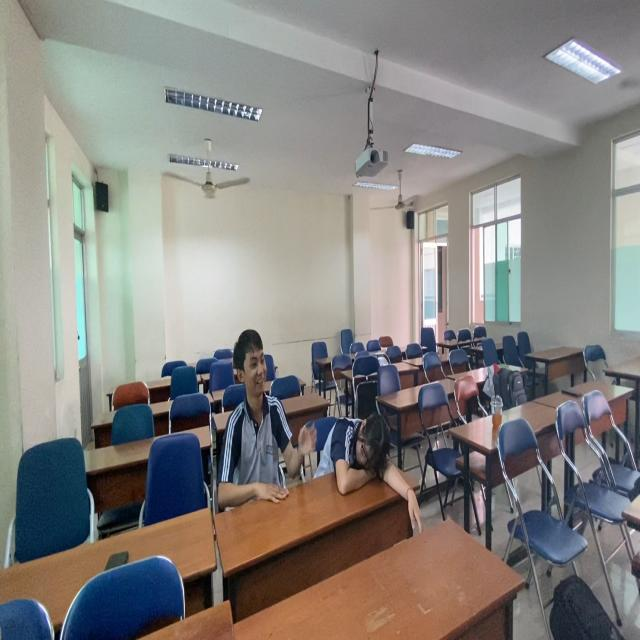sleep: (317, 412, 427, 543)
